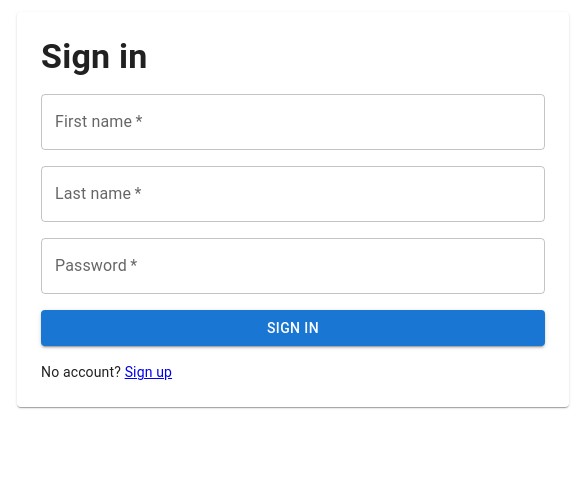
Scenario: SignInPage › shows generic error when thrown value is not Error
Step 1. Type "John" into the field labelled "First name *" → (293, 122), box top-left (41, 94), bottom-right (545, 150)
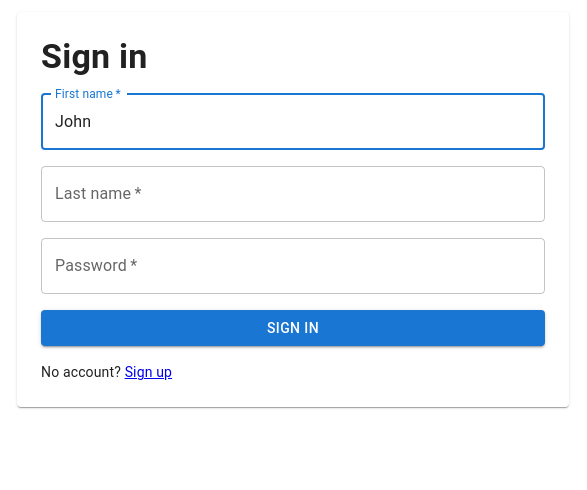
Step 2. Type "Doe" into the field labelled "Last name *" → (293, 194), box top-left (41, 166), bottom-right (545, 222)
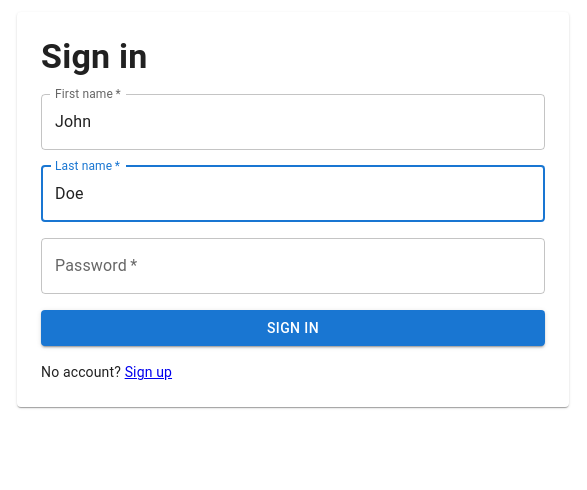
Step 3. Type "bad" into the password field labelled "Password *" → (293, 266), box top-left (41, 238), bottom-right (545, 294)
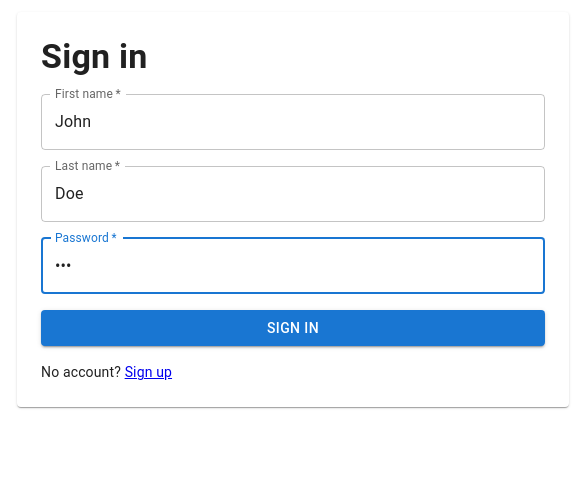
Step 4. Click the button "Sign in" → (293, 328), box top-left (41, 310), bottom-right (545, 346)
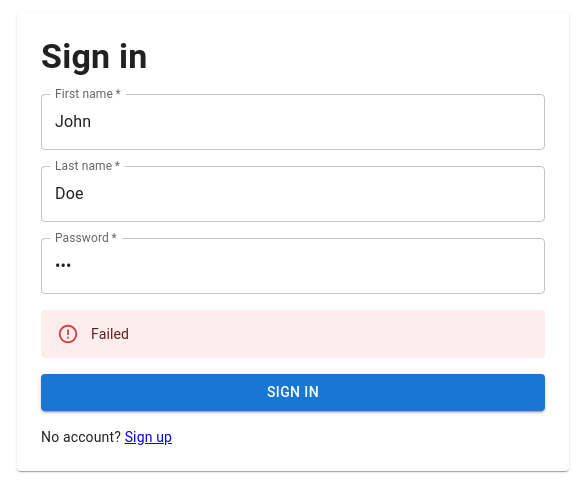
Expected: the text "Failed" is shown, top-left (91, 326), bottom-right (129, 342)
